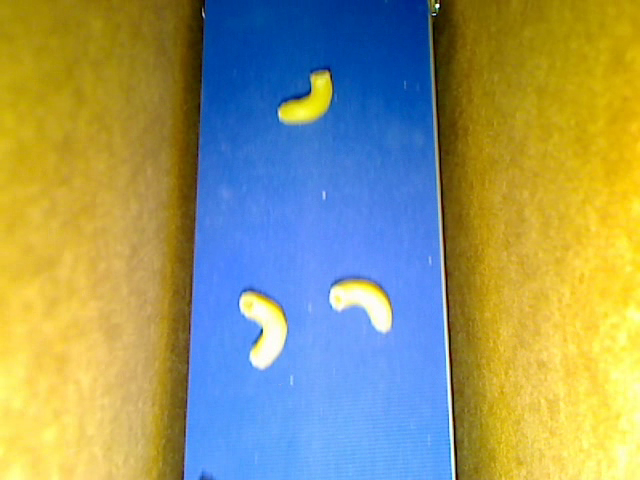elbow: (328, 277, 393, 334), (239, 289, 286, 367), (277, 70, 333, 124)
